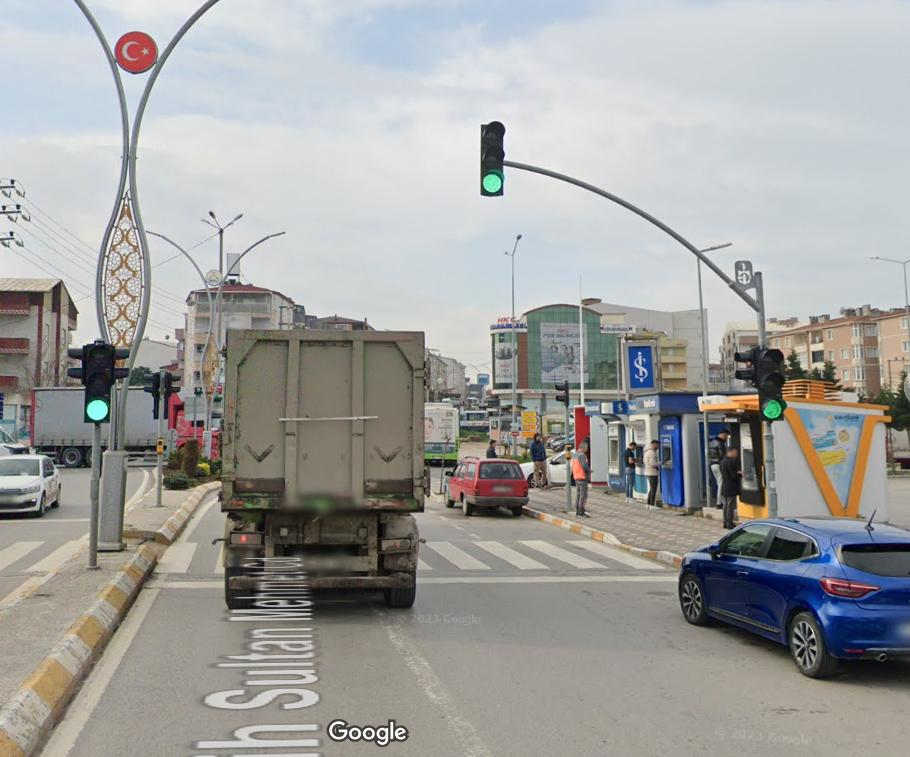greenlight: (82, 342, 112, 424), (756, 347, 784, 420), (479, 123, 507, 193)
